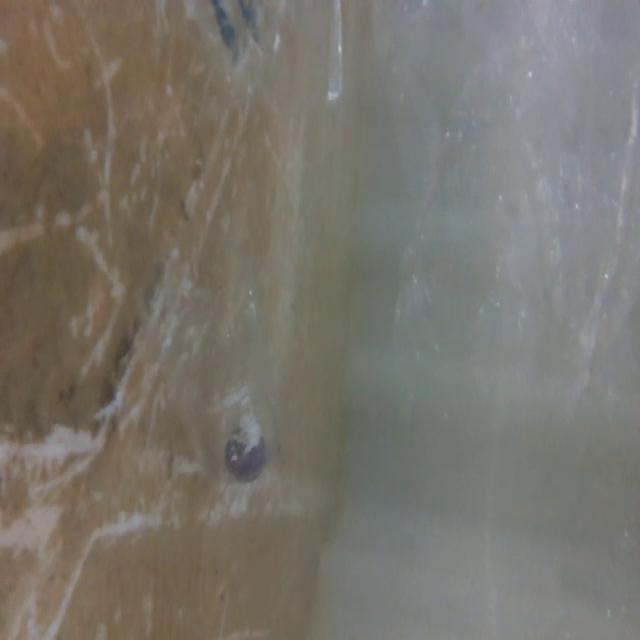plastic bags: (391, 0, 639, 454), (173, 0, 361, 110)
plastic bottle: (136, 191, 285, 500)
